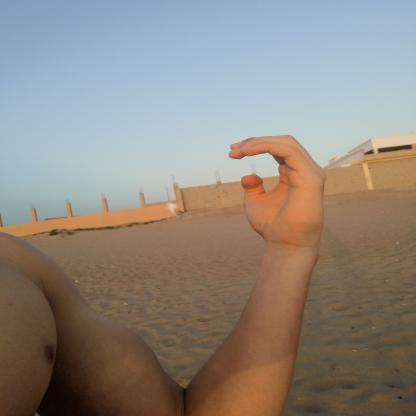JEEM: (206, 123, 340, 252)
